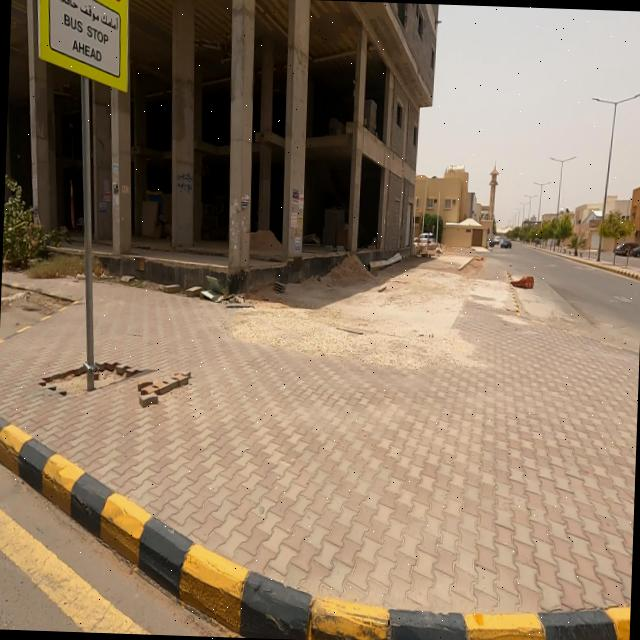Graffiti: (177, 171, 195, 193)
